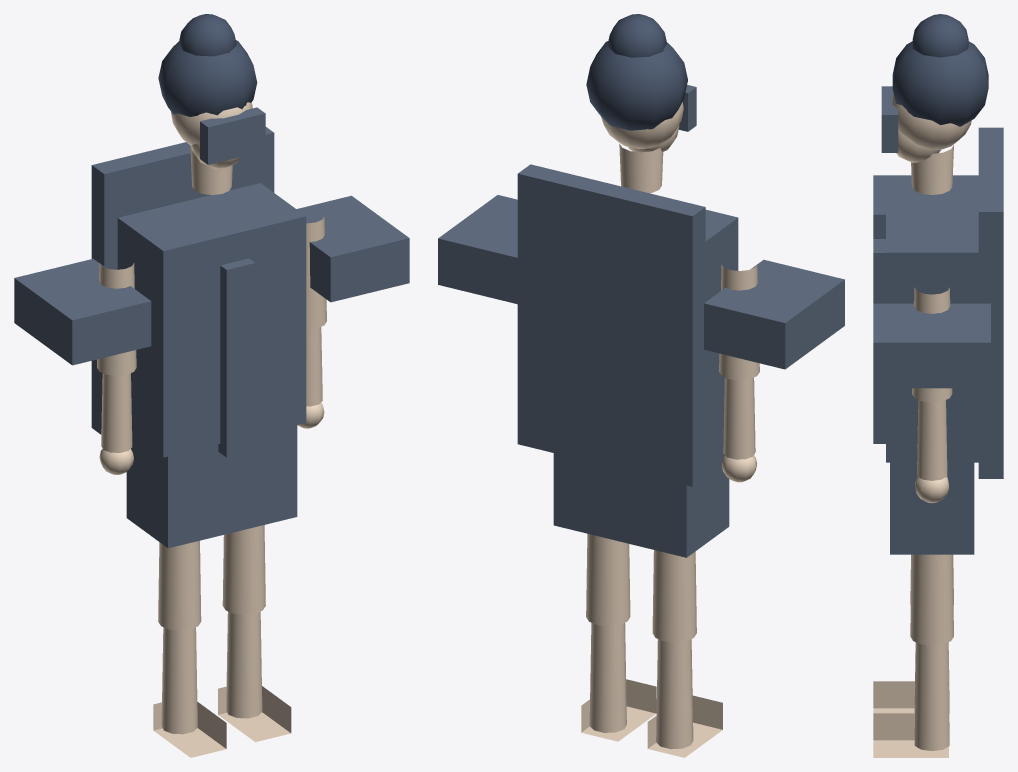
File: body.glb
3 renders of one model, left to right at view 1: azimuth 30°, elevation 25°; view 2: azimuth 150°, elevation 25°; view 3: azimuth 270°, elevation 25°, orthographic. The views are drawn at different scales.
Parts seen in each view (by area): view 1: Cloth, Skin, Hair; view 2: Cloth, Skin, Hair; view 3: Cloth, Skin, Hair.
Boxes of the visible parts, left/top/right/bottom form: Cloth: left=14, top=107, right=409, bottom=548; Skin: left=97, top=102, right=326, bottom=757; Hair: left=158, top=14, right=257, bottom=116; Cloth: left=438, top=85, right=844, bottom=557; Skin: left=581, top=102, right=759, bottom=757; Hair: left=586, top=14, right=687, bottom=130; Cloth: left=873, top=86, right=1003, bottom=554; Skin: left=873, top=93, right=971, bottom=757; Hair: left=892, top=14, right=988, bottom=126.
Bounding box in the file's own units: 0.9399 × 1.88 × 0.31.
